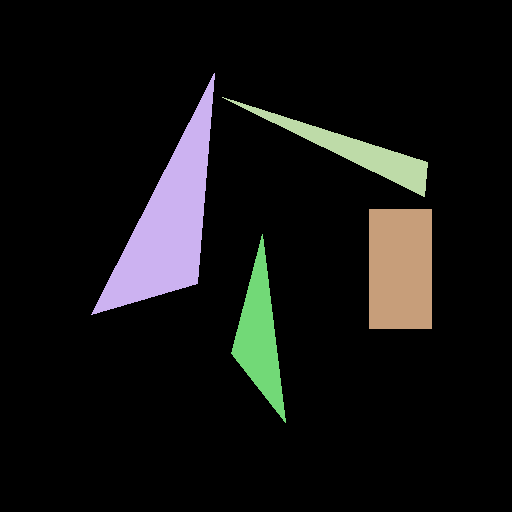rectangle: (369, 209, 431, 328)
triangle: (91, 73, 214, 314), (222, 97, 425, 196), (231, 234, 285, 422)
